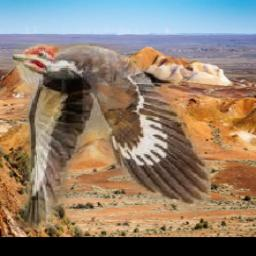Woodpecker: (13, 44, 211, 229)
